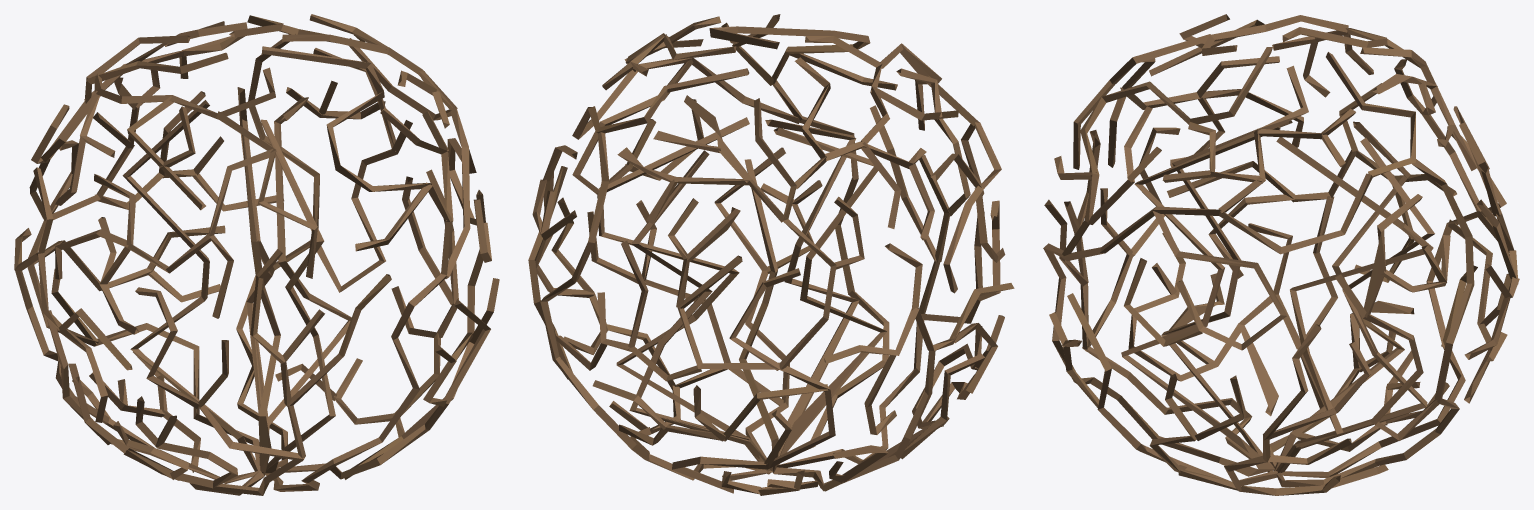
The model's file is Tumbleweed4_1.fbx.
The picture shows the model from 3 angles, left to right: view 1: azimuth 30°, elevation 25°; view 2: azimuth 150°, elevation 25°; view 3: azimuth 270°, elevation 25°; orthographic projection.
Visible parts, largest first — view 1: Plane.004; view 2: Plane.004; view 3: Plane.004.
Part boxes in pixels (x1,y1,x2,y2): Plane.004: [14, 14, 499, 495]; Plane.004: [528, 14, 1014, 495]; Plane.004: [1043, 14, 1519, 495].
Bounding box in the file's own units: 194 × 196 × 197.
